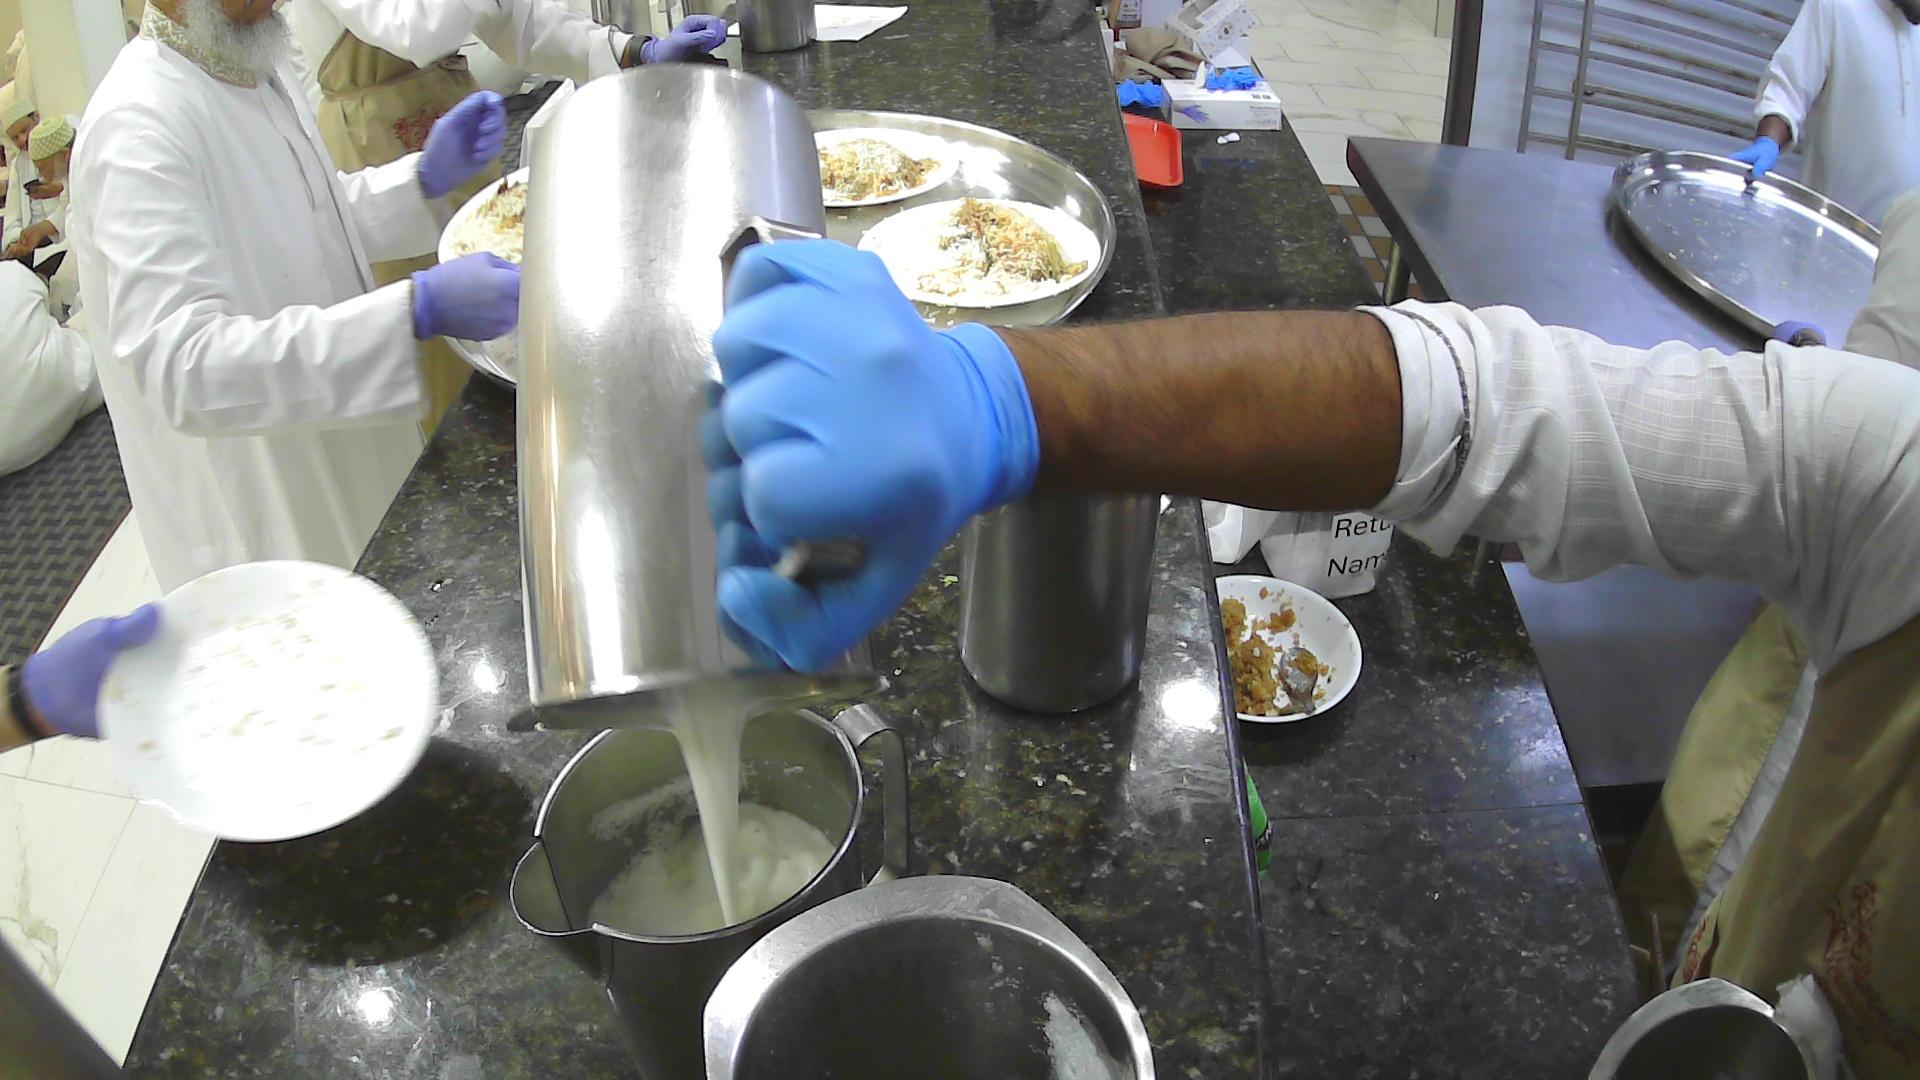thaal: (422, 104, 1122, 396), (1610, 148, 1883, 352)
